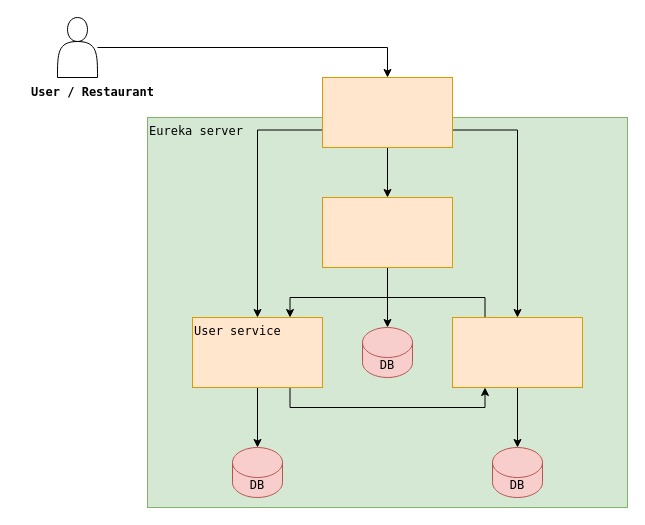
This 645x525 diagram has some shape labels left out. The box of each missing label's shape, as (x1, y1, x2, y2) in pixels:
API Auth: (322, 196, 452, 268)
API Gateway: (322, 76, 452, 148)
Restaurant service: (452, 316, 582, 388)
